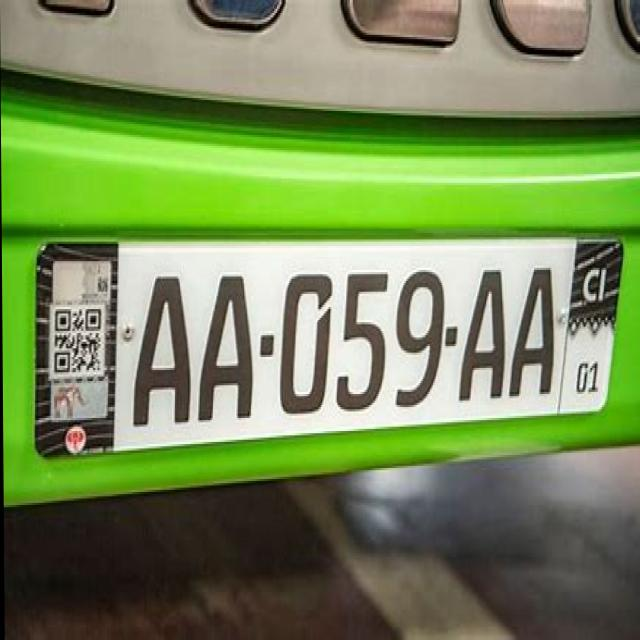Plaque: (35, 244, 613, 440)
